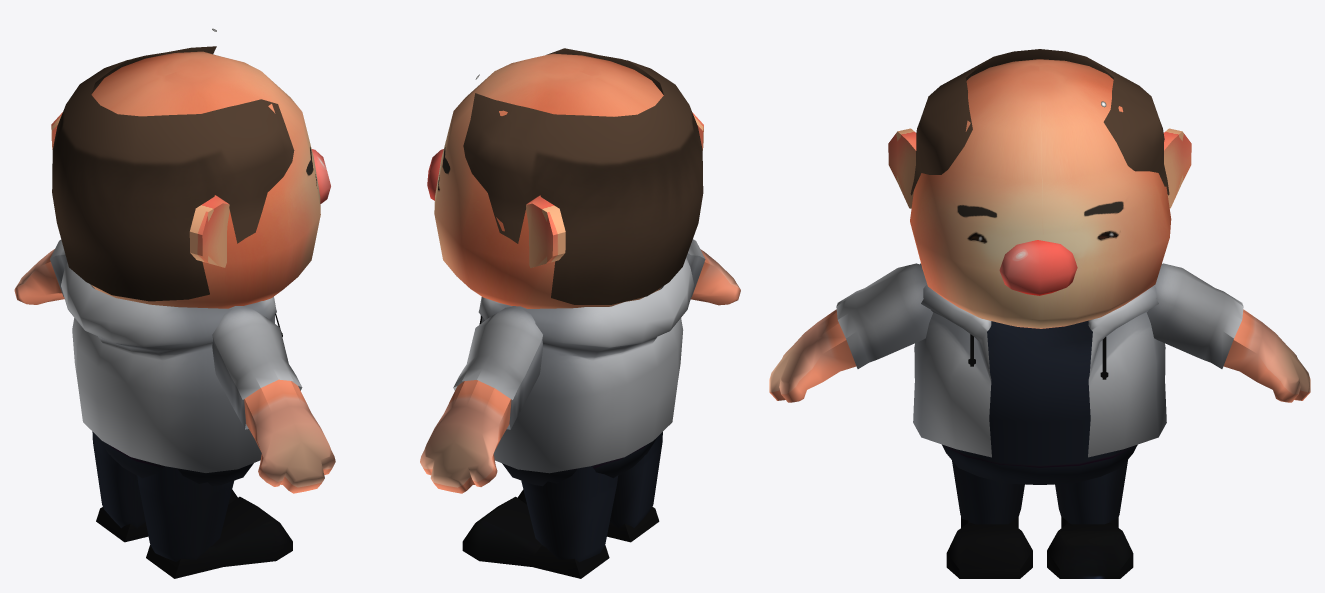
Rendered from Char_Sci_Tech_04.fbx.
3 views of the same model, side by side, from view 1: azimuth 30°, elevation 25°; view 2: azimuth 150°, elevation 25°; view 3: azimuth 270°, elevation 25° (orthographic).
Parts seen in each view (by area): view 1: Hair_Siber_Programmer, Jacket_Programmer, Head_Programmer, R_Arm_Programmer, L_Leg_Programmer, R_Leg_Programmer, R_Ear_Programmer, L_Arm_Programmer, Body_Programmer, Nose_Programmer; view 2: Hair_Siber_Programmer, Jacket_Programmer, Head_Programmer, L_Arm_Programmer, R_Leg_Programmer, L_Leg_Programmer, L_Ear__Programmer, R_Arm_Programmer, Body_Programmer, Nose_Programmer; view 3: Head_Programmer, Jacket_Programmer, Body_Programmer, R_Arm_Programmer, L_Arm_Programmer, Hair_Siber_Programmer, R_Leg_Programmer, L_Leg_Programmer, Nose_Programmer, R_Ear_Programmer, L_Ear__Programmer.
Boxes of the visible parts, <box> form: Hair_Siber_Programmer: <box>52,46,294,301</box>; Jacket_Programmer: <box>61,262,282,472</box>; Head_Programmer: <box>91,51,320,308</box>; R_Arm_Programmer: <box>212,306,335,493</box>; L_Leg_Programmer: <box>137,466,292,578</box>; R_Leg_Programmer: <box>92,431,237,542</box>; R_Ear_Programmer: <box>189,195,229,267</box>; L_Arm_Programmer: <box>14,240,67,304</box>; Body_Programmer: <box>98,437,253,486</box>; Nose_Programmer: <box>311,149,330,204</box>; Hair_Siber_Programmer: <box>463,48,703,304</box>; Jacket_Programmer: <box>478,257,694,473</box>; Head_Programmer: <box>434,53,663,308</box>; L_Arm_Programmer: <box>420,306,542,493</box>; R_Leg_Programmer: <box>462,466,618,578</box>; L_Leg_Programmer: <box>517,432,662,542</box>; L_Ear__Programmer: <box>526,196,565,267</box>; R_Arm_Programmer: <box>686,239,740,305</box>; Body_Programmer: <box>502,437,657,486</box>; Nose_Programmer: <box>427,149,443,200</box>; Head_Programmer: <box>910,59,1171,328</box>; Jacket_Programmer: <box>913,263,1166,457</box>; Body_Programmer: <box>942,320,1137,484</box>; R_Arm_Programmer: <box>769,263,932,402</box>; L_Arm_Programmer: <box>1146,263,1310,402</box>; Hair_Siber_Programmer: <box>910,49,1169,195</box>; R_Leg_Programmer: <box>1047,460,1133,578</box>; L_Leg_Programmer: <box>946,460,1032,578</box>; Nose_Programmer: <box>999,240,1077,295</box>; R_Ear_Programmer: <box>888,128,916,208</box>; L_Ear__Programmer: <box>1163,128,1191,208</box>.
Size of the model in its own units: 3.9 by 7.43 by 7.
2 materials, 2 textured.
